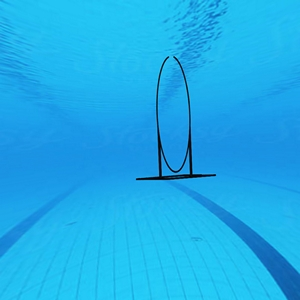circle: (132, 54, 221, 186)
